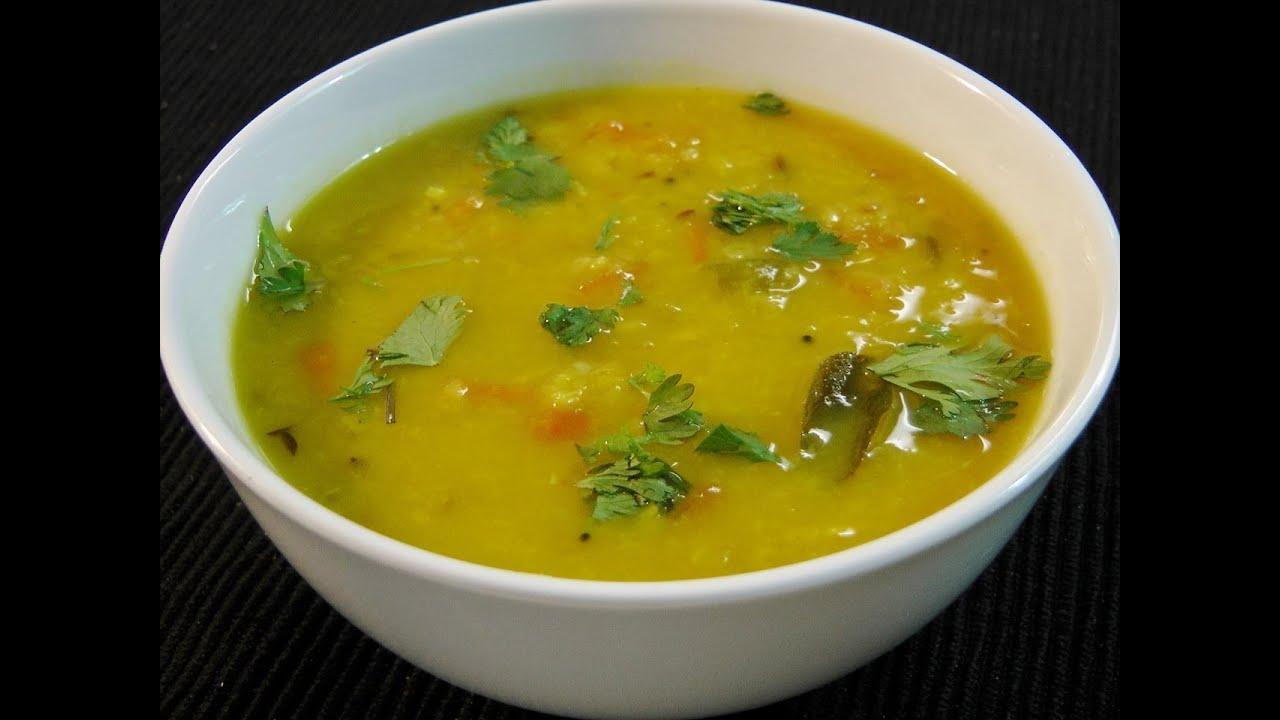varan: (257, 103, 1043, 592)
